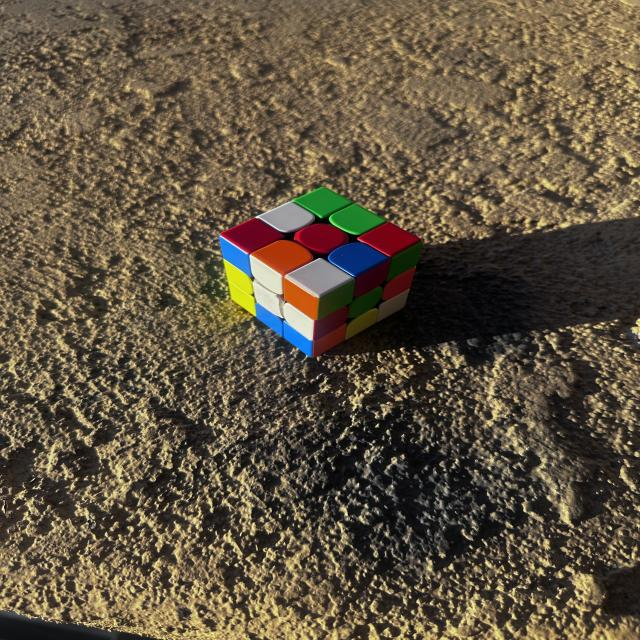sticker: (284, 256, 356, 296), (219, 218, 281, 254), (248, 239, 313, 272), (359, 221, 421, 255), (328, 241, 389, 272), (257, 200, 317, 231), (331, 203, 387, 234), (292, 223, 351, 252), (297, 187, 356, 215)
